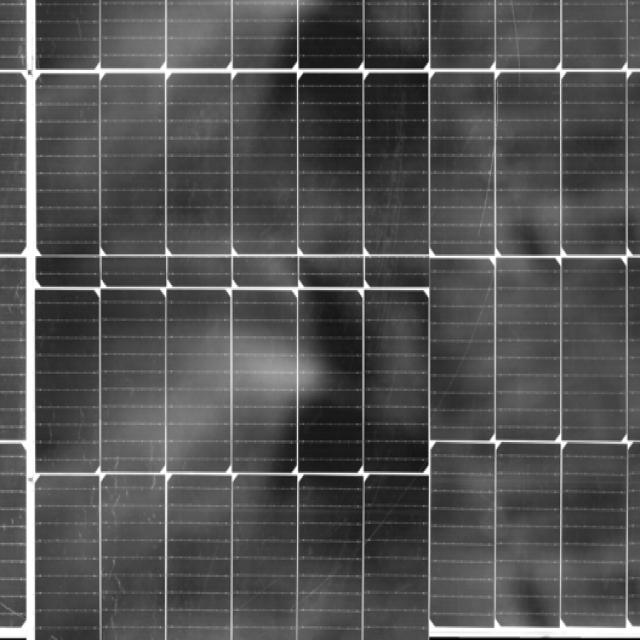MISALIGNMENT: (75, 234, 462, 324), (352, 412, 478, 497)
